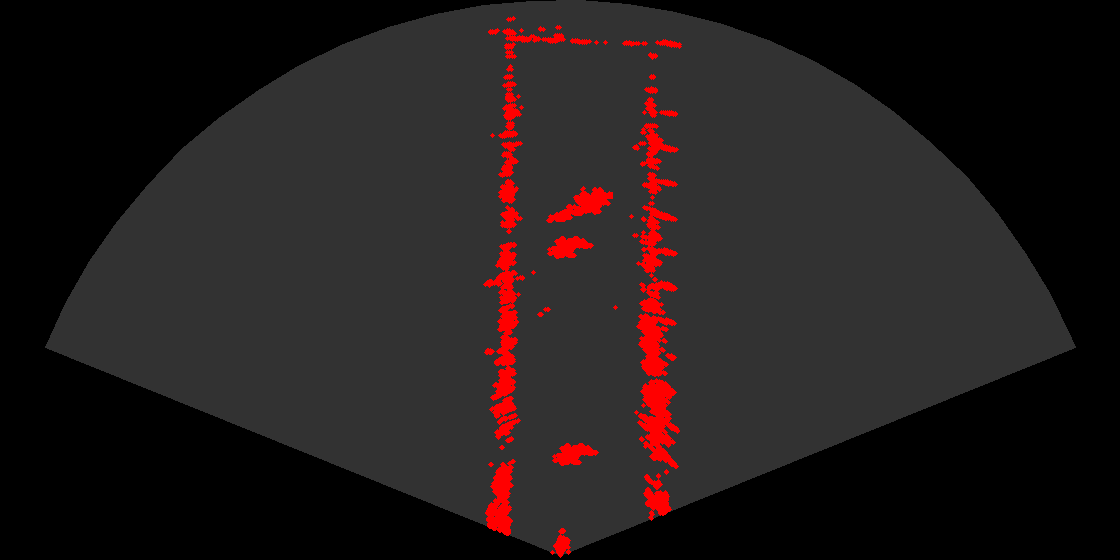AUV: (541, 234, 597, 266), (546, 441, 602, 473)
frogman: (545, 180, 613, 227)
